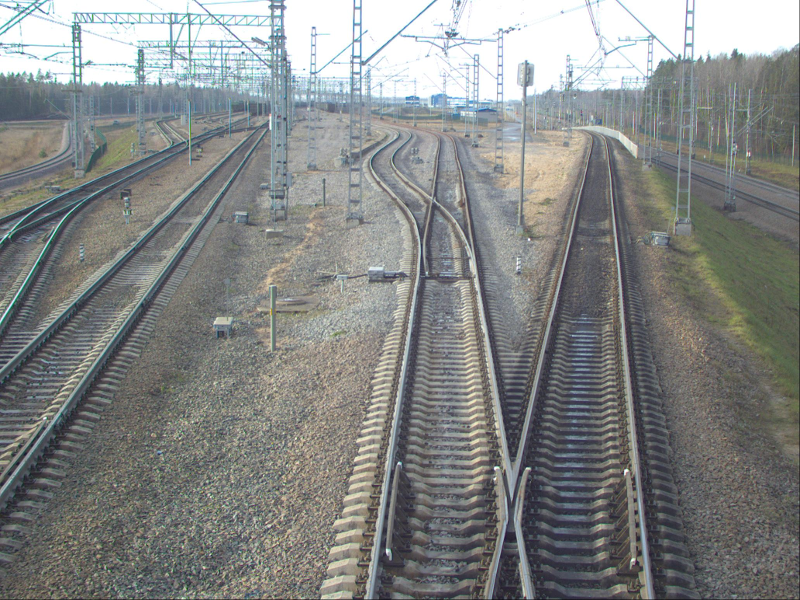left: (413, 237, 485, 277)
